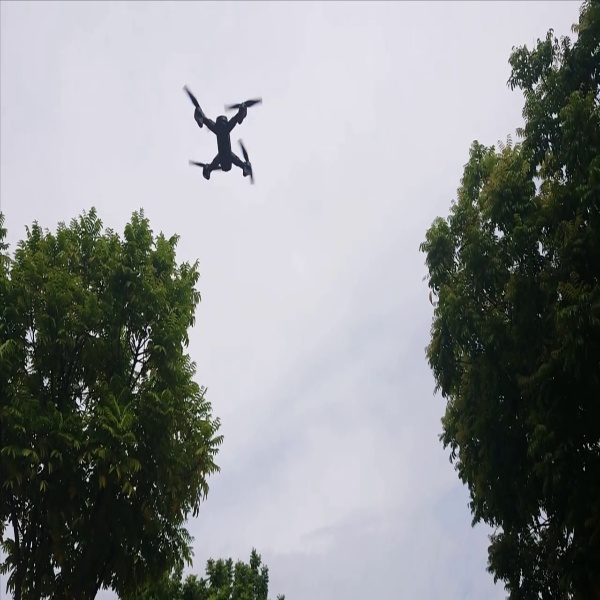drone: (170, 72, 267, 185)
